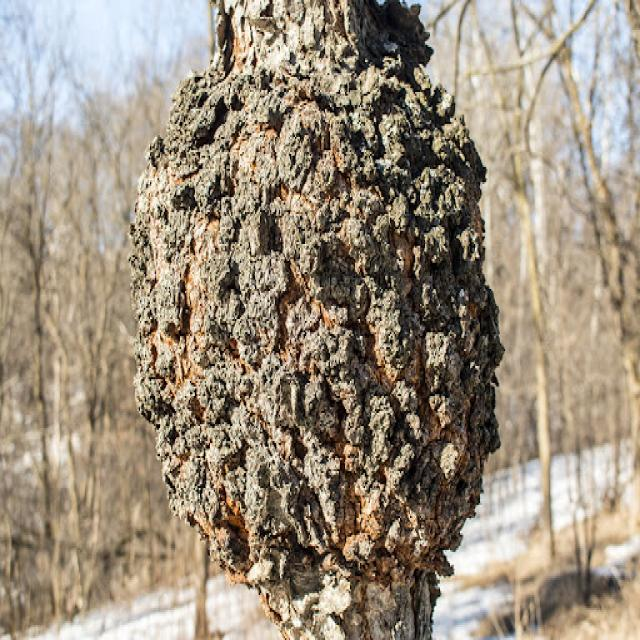Black_knot: (126, 0, 505, 636)
